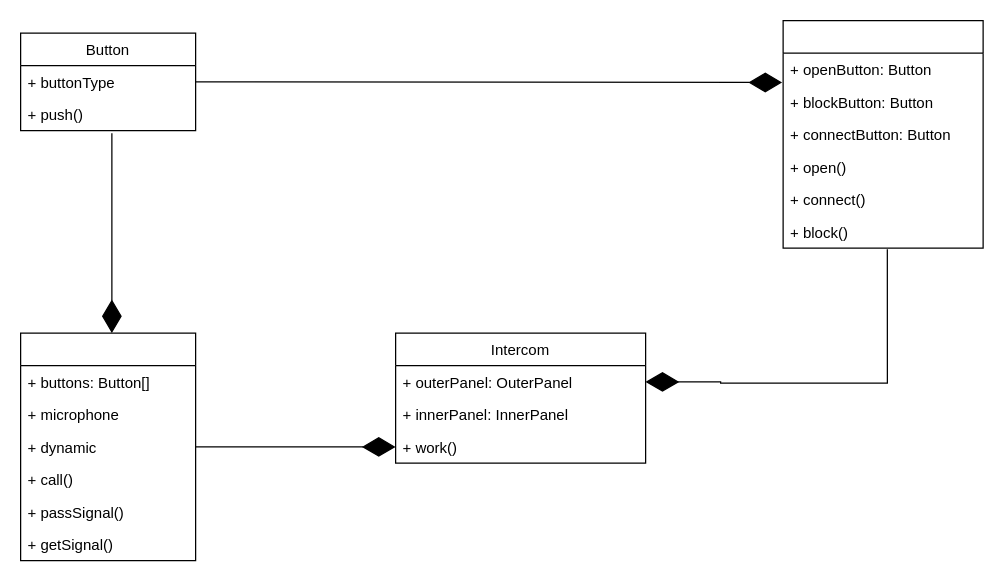
Some shapes in this 1004 by 581 pixel diagram are drawn without their labels. The box of each missing label's shape, as (x1, y1, x2, y2) in pixels:
Inner Panel: (782, 19, 983, 248)
Outer Panel: (19, 332, 196, 561)
